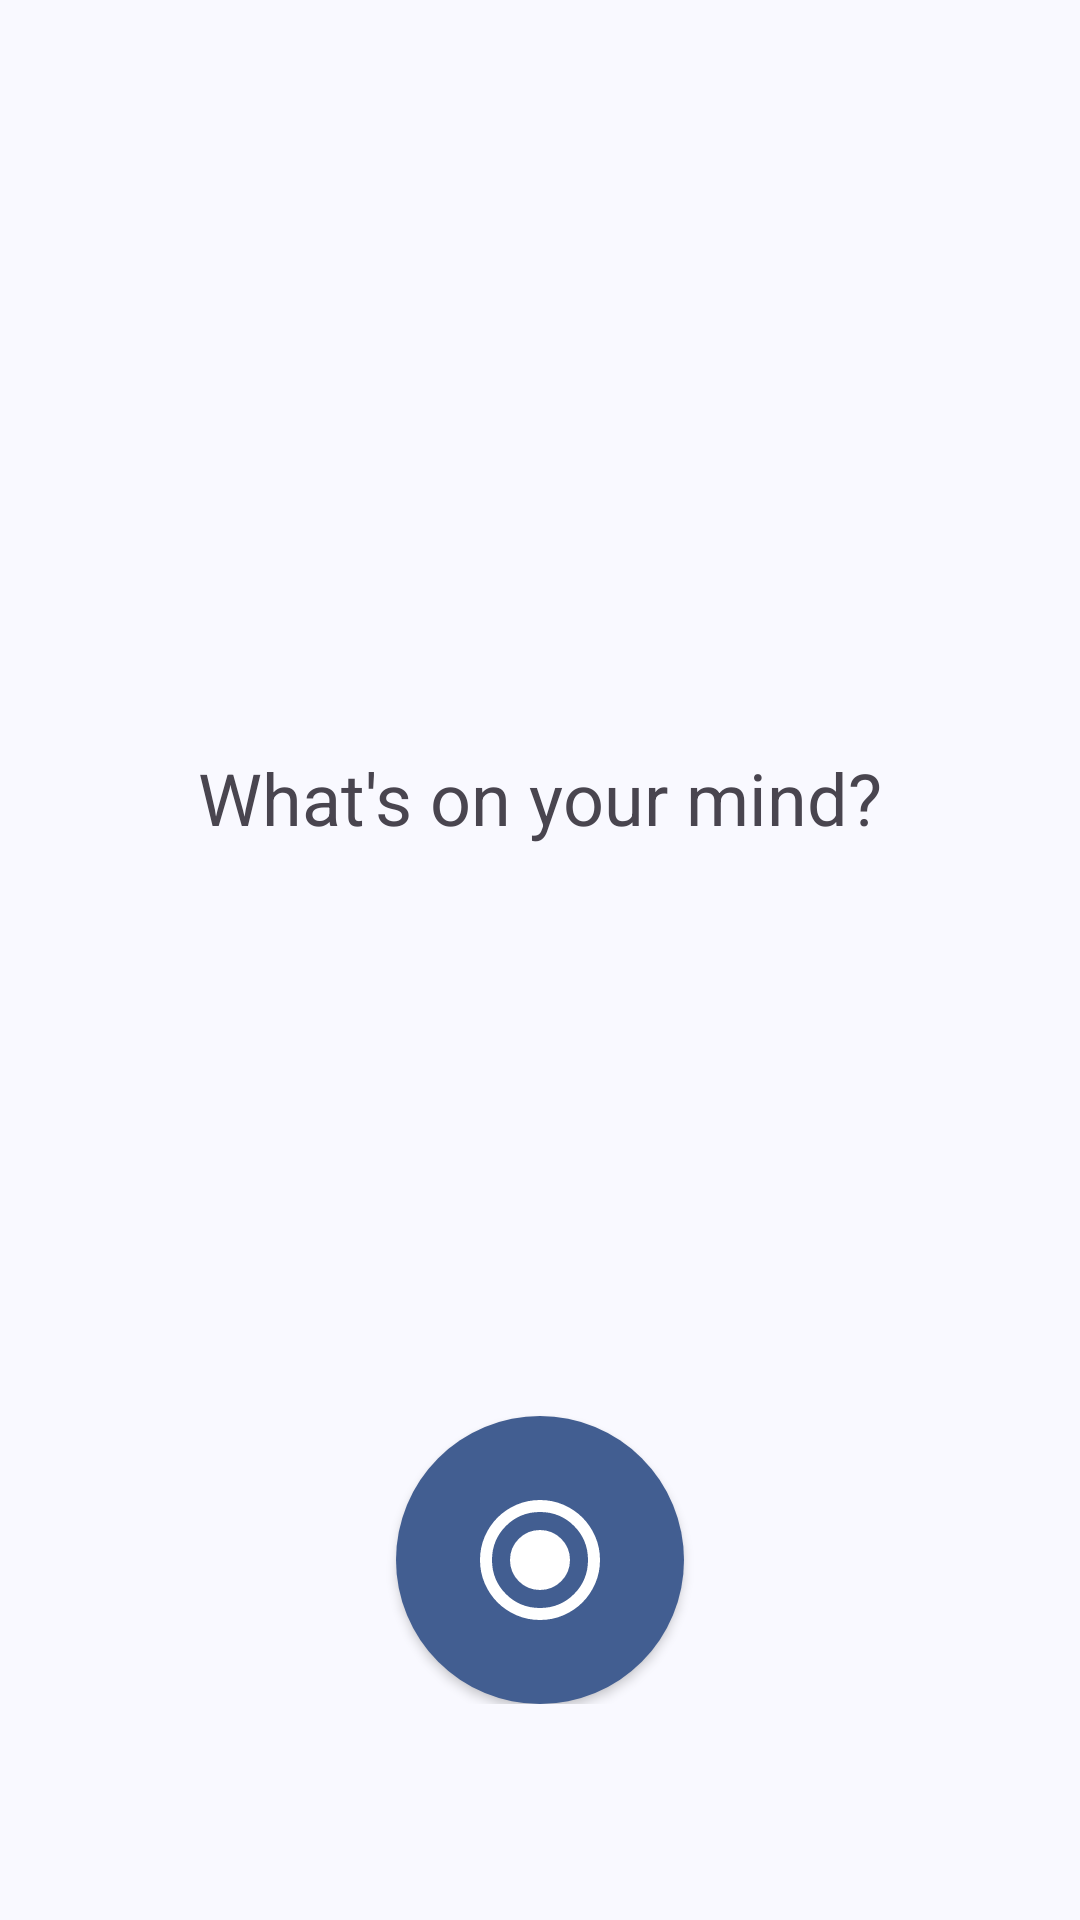

Icon bounding boxes for this 1080w x 1920h phone screenshot, format (x1, y1, x2, y2):
record: (396, 1416, 684, 1704)
